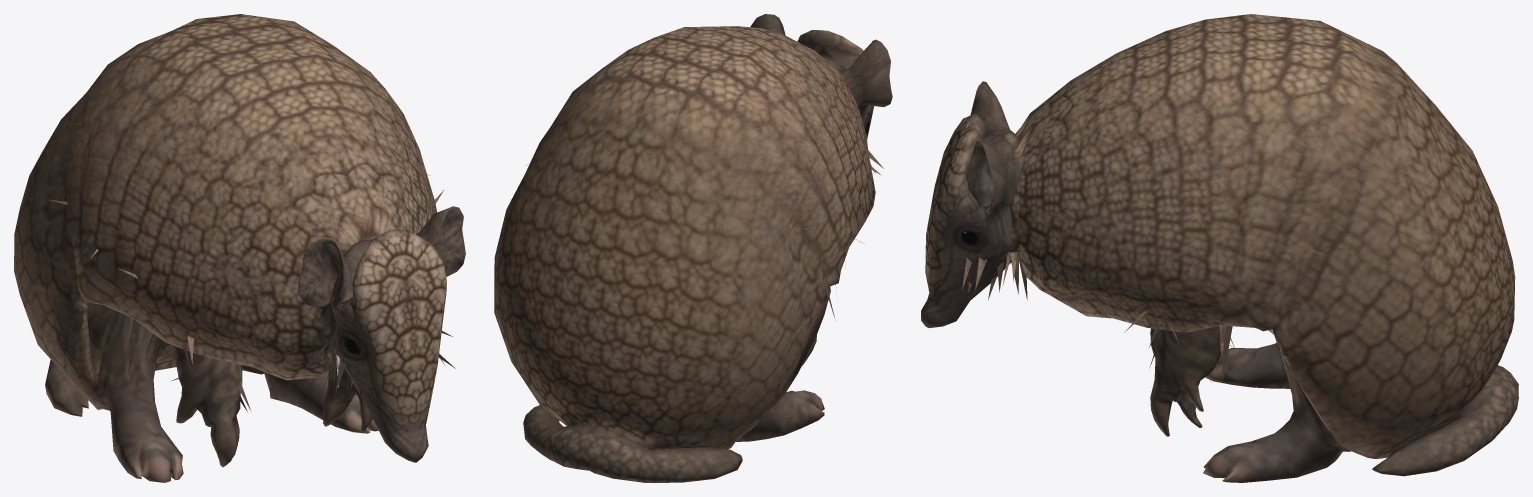
Rendered from tatu_bola_do_nordeste_novo.glb.
The picture shows the model from 3 angles, left to right: view 1: azimuth 30°, elevation 25°; view 2: azimuth 150°, elevation 25°; view 3: azimuth 270°, elevation 25°; orthographic projection. The views are drawn at different scales.
Bounding box in the file's own units: 0.6196 × 0.6875 × 0.9575.
Materials: 1 (1 with a texture image).
